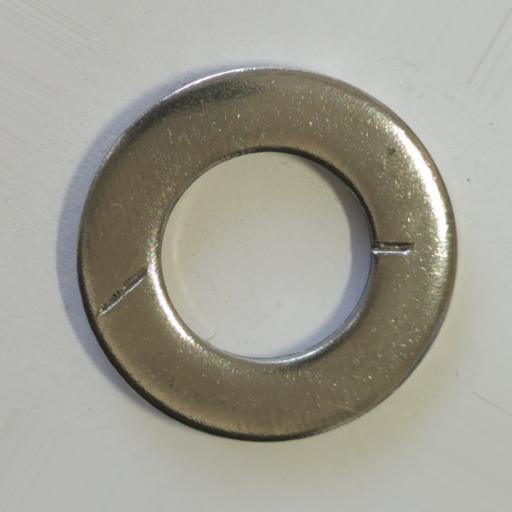scratch: (95, 264, 148, 317), (371, 242, 416, 257)
